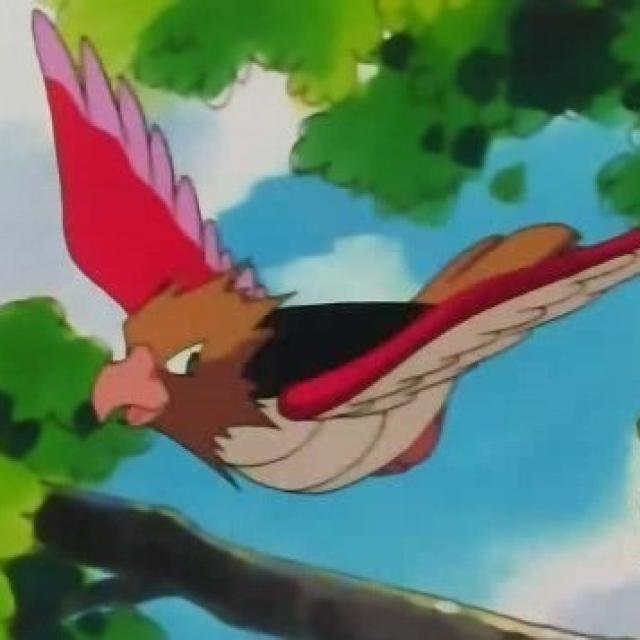Spearow: (68, 147, 567, 488)
